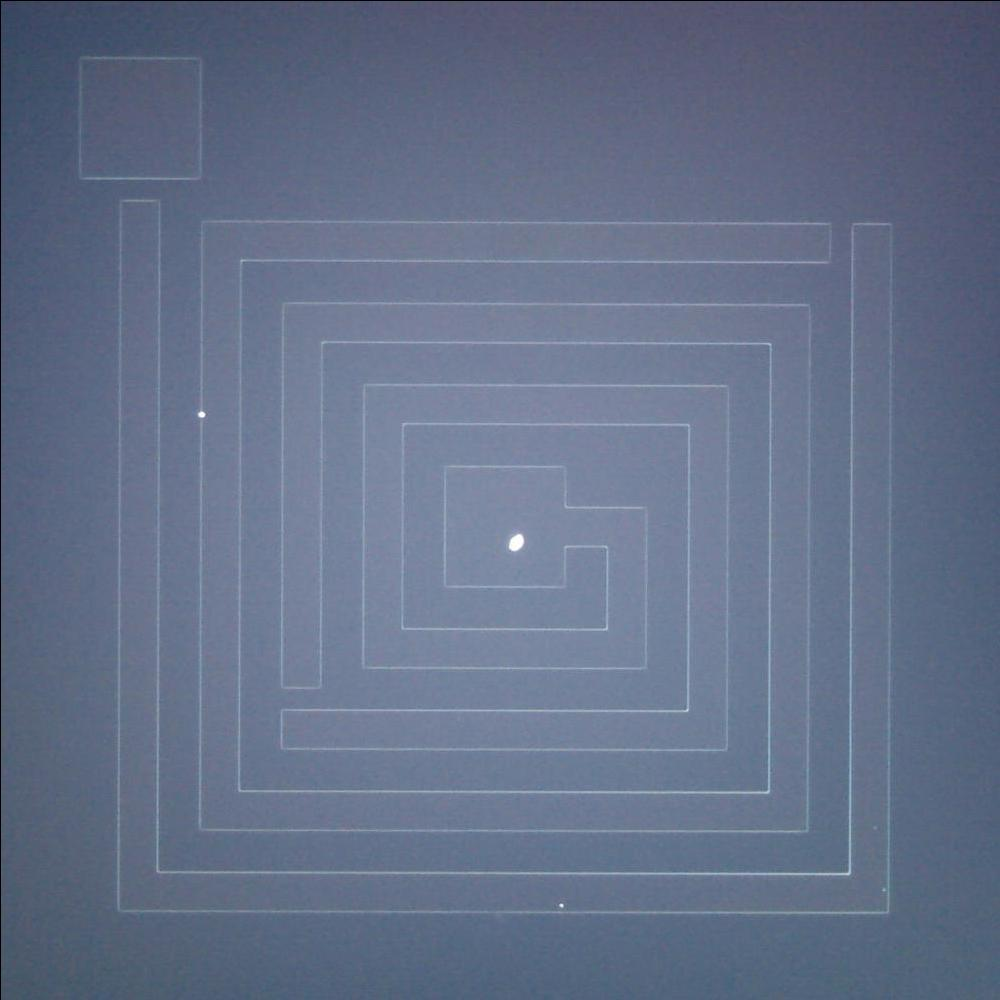dot: (189, 400, 215, 429), (549, 895, 573, 915)
short circuit: (272, 667, 332, 726), (812, 213, 870, 273), (112, 167, 170, 220)
spot: (499, 521, 534, 556)
